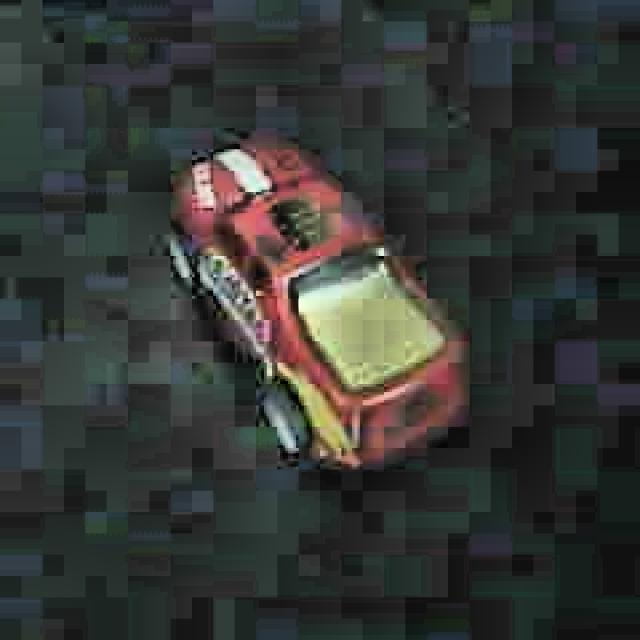car: (161, 130, 474, 476)
